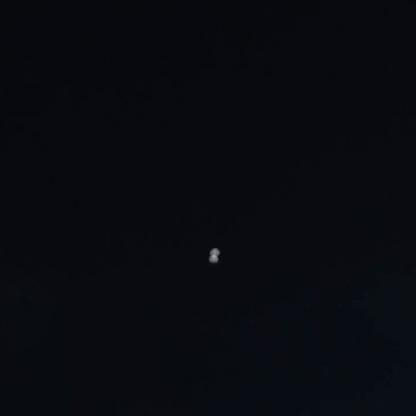ball: (205, 241, 224, 254), (208, 255, 220, 271)
